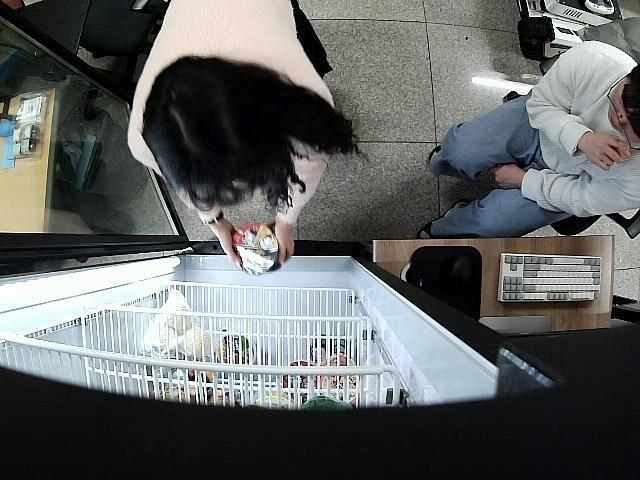07_buldak_L: (228, 221, 282, 276)
